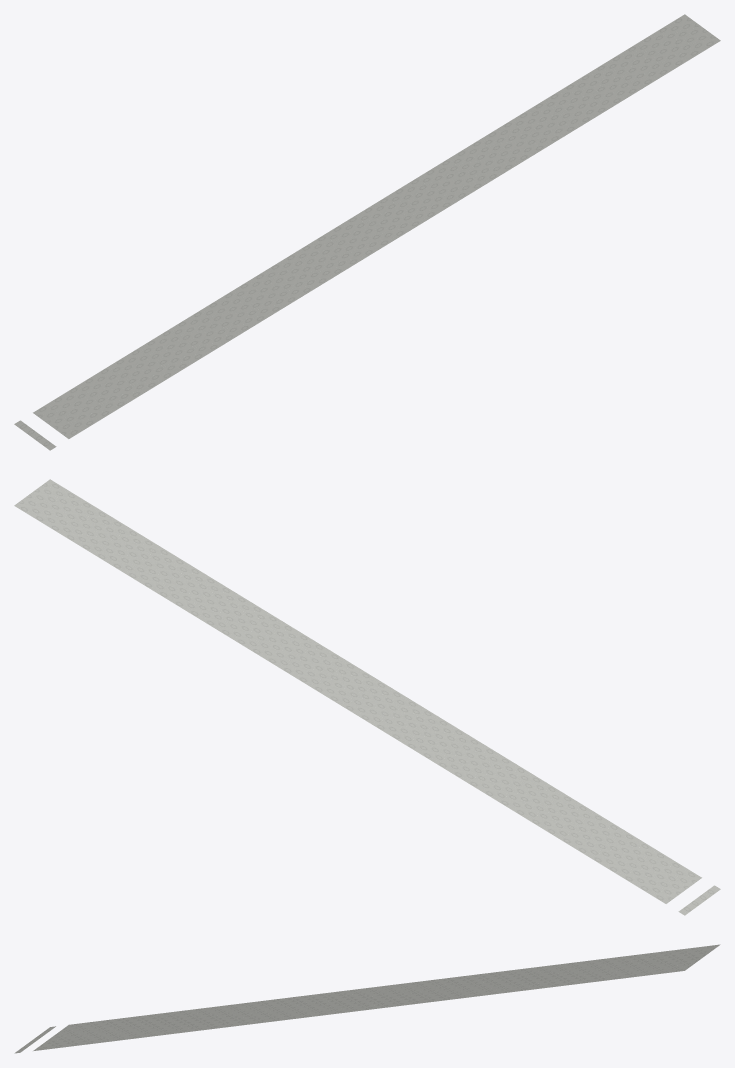
The model's file is kd_stage_136282_1_9_bounded.glb.
3 views of the same model, one above another, from view 1: azimuth 30°, elevation 25°; view 2: azimuth 150°, elevation 25°; view 3: azimuth 330°, elevation 25° (orthographic).
Parts seen in each view (by area): view 1: kd_stage_136282_1_9_bounded; view 2: kd_stage_136282_1_9_bounded; view 3: kd_stage_136282_1_9_bounded.
Part boxes in pixels (<box>): kd_stage_136282_1_9_bounded: <box>14,14,720,450</box>; kd_stage_136282_1_9_bounded: <box>14,479,720,915</box>; kd_stage_136282_1_9_bounded: <box>14,944,720,1053</box>.
Bounding box in the file's own units: 31.06 × 10.9 × 2.9.
1 material, 1 textured.
